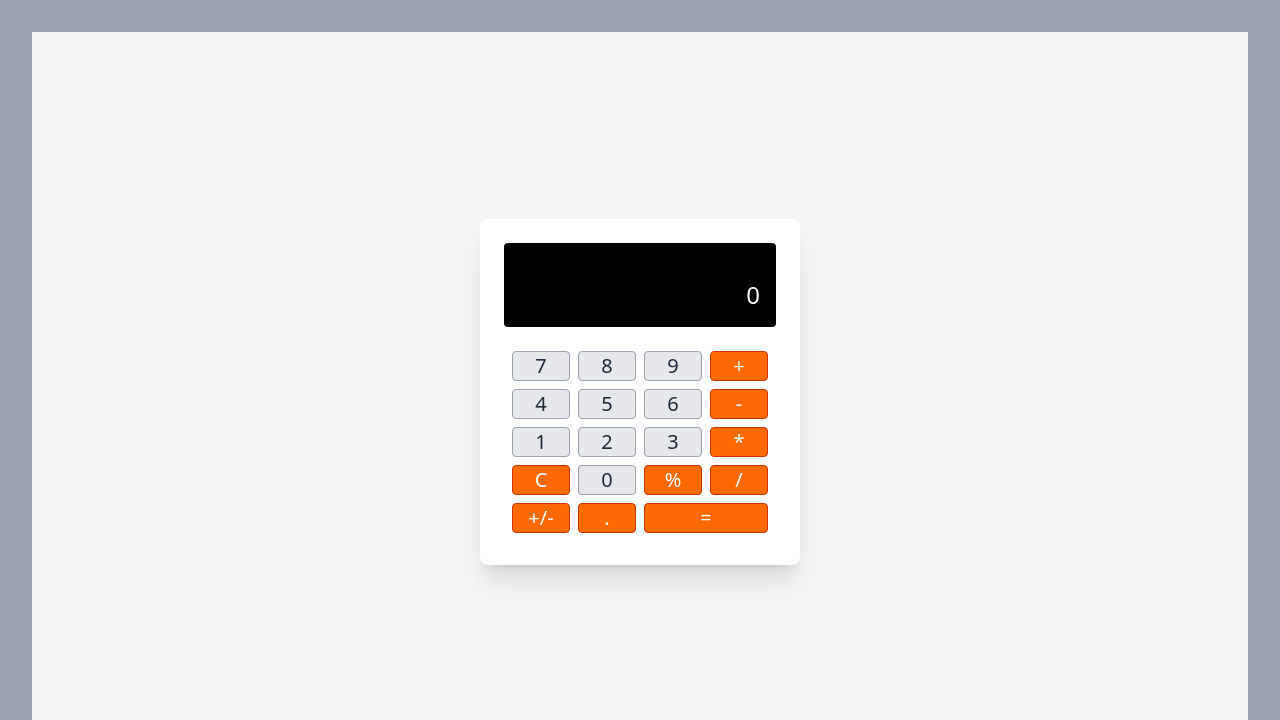
Scenario: Calculadora › debe cambiar el signo del número con +/- y mostrar ERROR si el resultado es negativo
Click the button "7" at (541, 366), box x1=512 y1=351 x2=570 y2=381
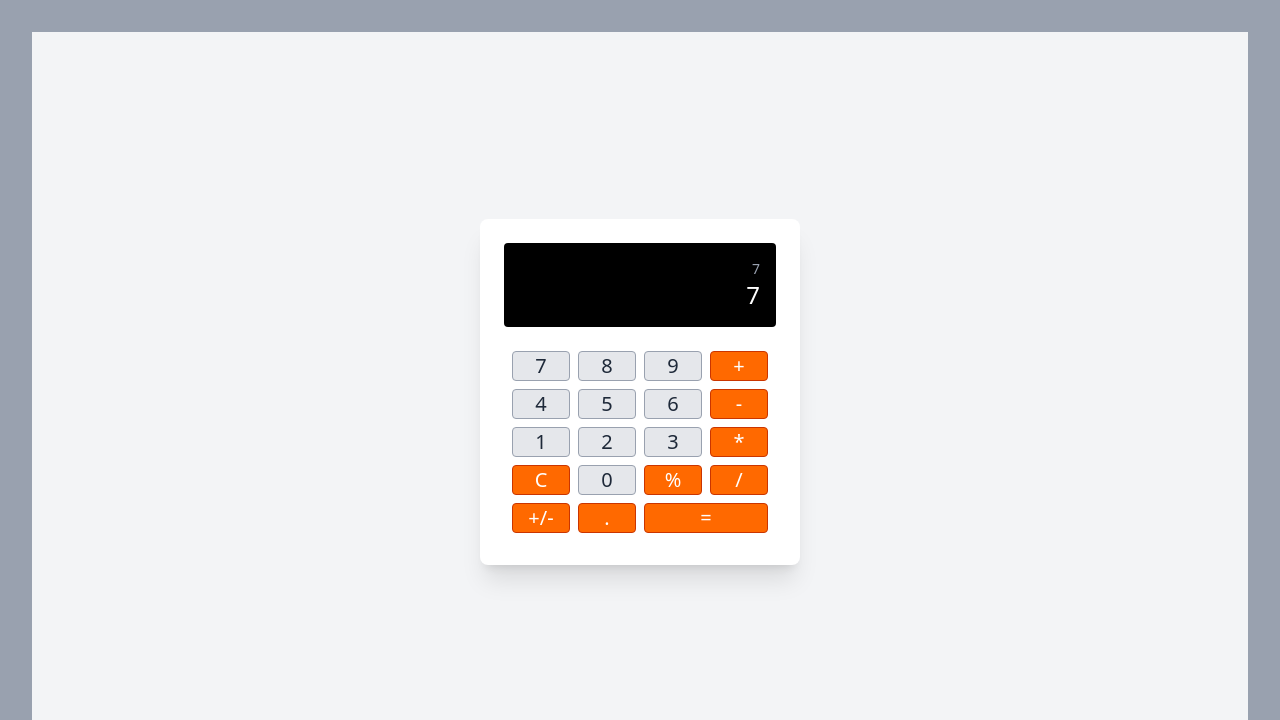
Click the button "+/-" at (541, 518), box x1=512 y1=503 x2=570 y2=533
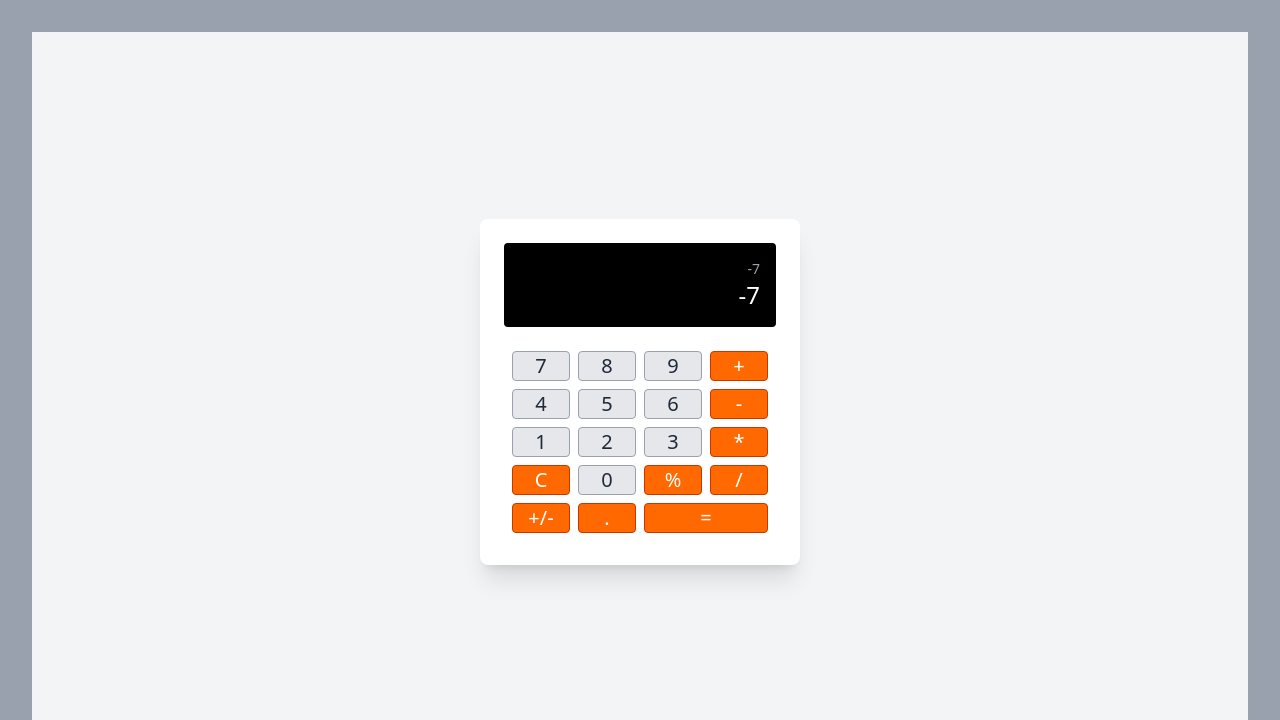
Check: the text with test id "display" reads "-7", box x1=738 y1=278 x2=760 y2=311
Click the button "+" at (739, 366), box x1=710 y1=351 x2=768 y2=381
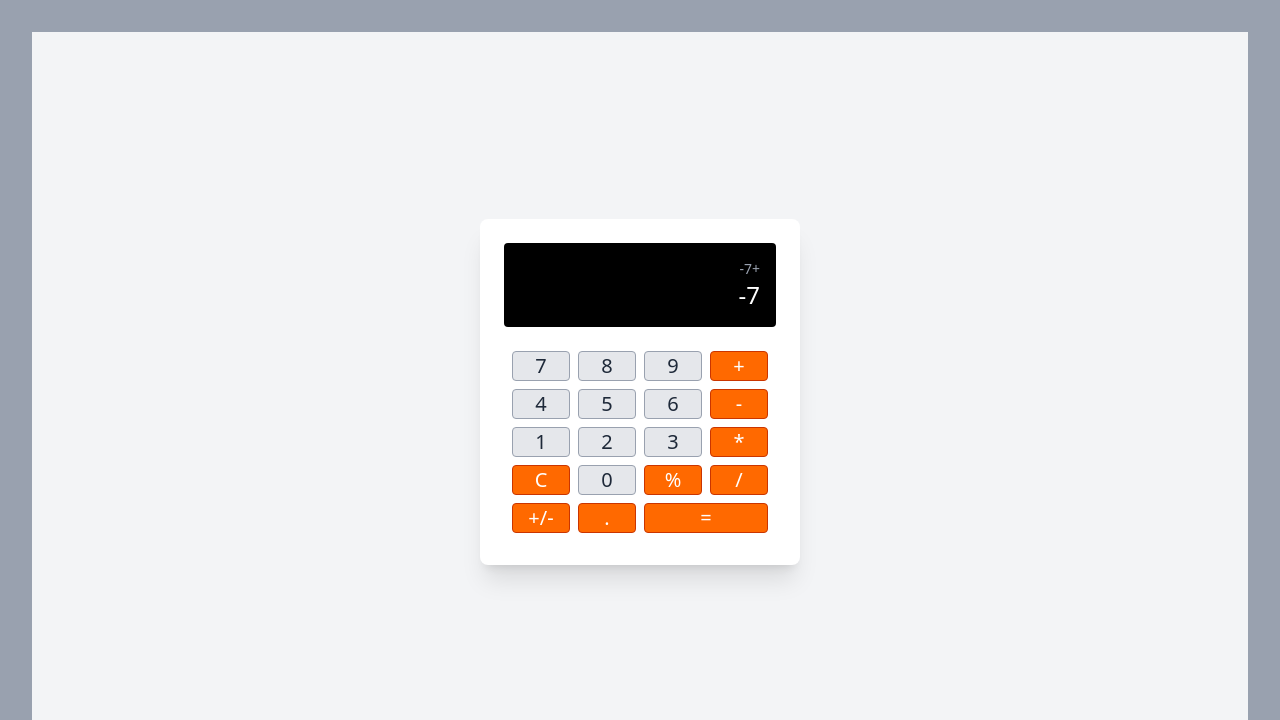
Click the button "2" at (607, 442), box x1=578 y1=427 x2=636 y2=457
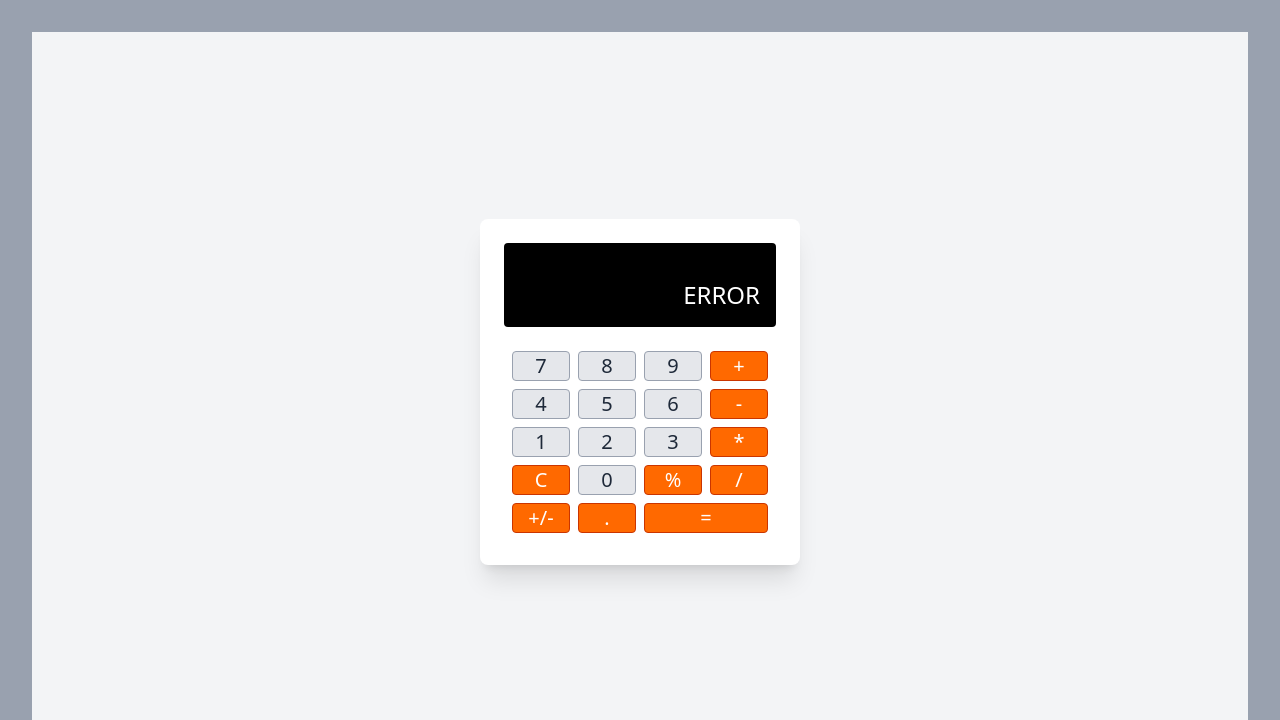
Check: the text with test id "display" reads "ERROR", box x1=683 y1=278 x2=760 y2=311
